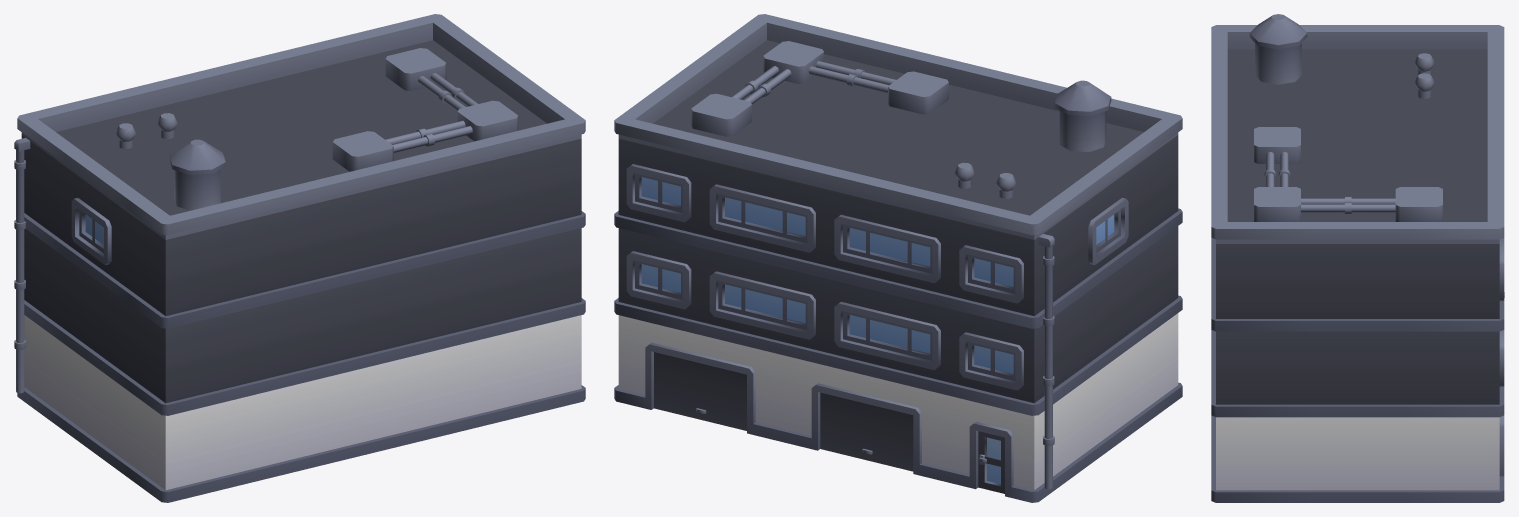
Rendered from building-a.glb.
The picture shows the model from 3 angles, left to right: view 1: azimuth 30°, elevation 25°; view 2: azimuth 150°, elevation 25°; view 3: azimuth 270°, elevation 25°; orthographic projection.
Parts seen in each view (by area): view 1: building-a; view 2: building-a; view 3: building-a.
Part boxes in pixels (x1=…): building-a: x1=14, y1=14, x2=585, y2=502; building-a: x1=614, y1=14, x2=1182, y2=502; building-a: x1=1211, y1=14, x2=1504, y2=502.
Bounding box in the file's own units: 2.08 × 1.47 × 1.24.
Materials: 1 (1 with a texture image).
